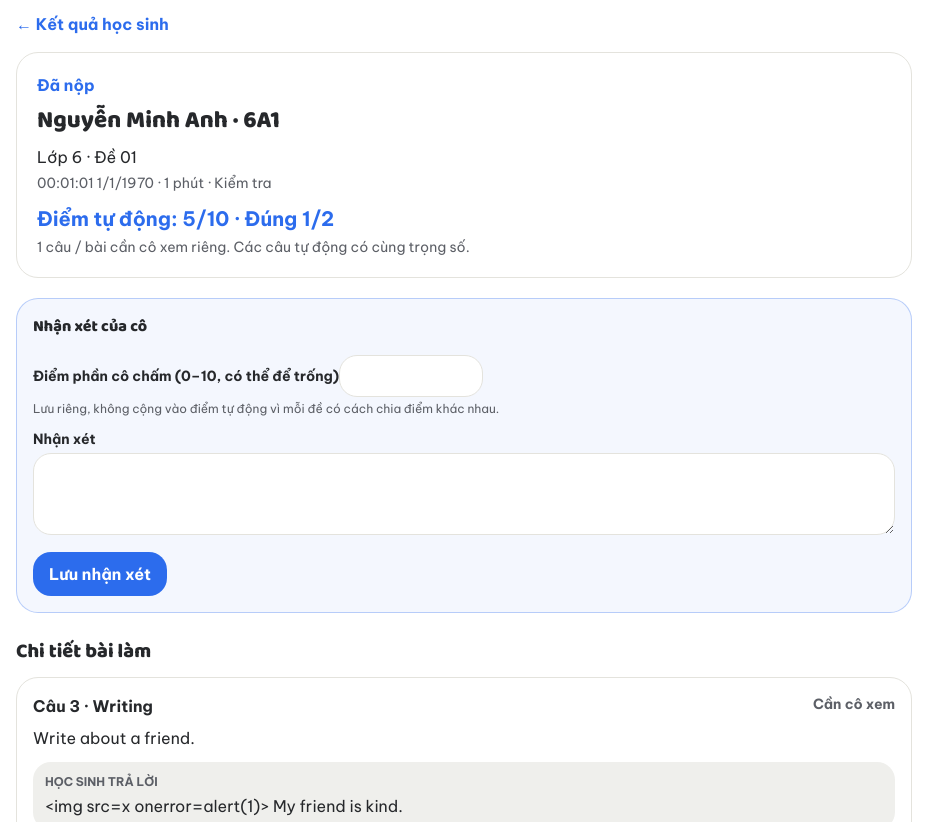
Test case: teacher results › shows the complete writing response as text and saves the teacher review separately
The width and height of the screenshot is (929, 822).
Expected: the text "<img src=x onerror=alert(1)> My friend is kind." is shown, x1=45 y1=796 x2=403 y2=816
Type "8.5" into the number field at (411, 376), box x1=339 y1=355 x2=483 y2=397
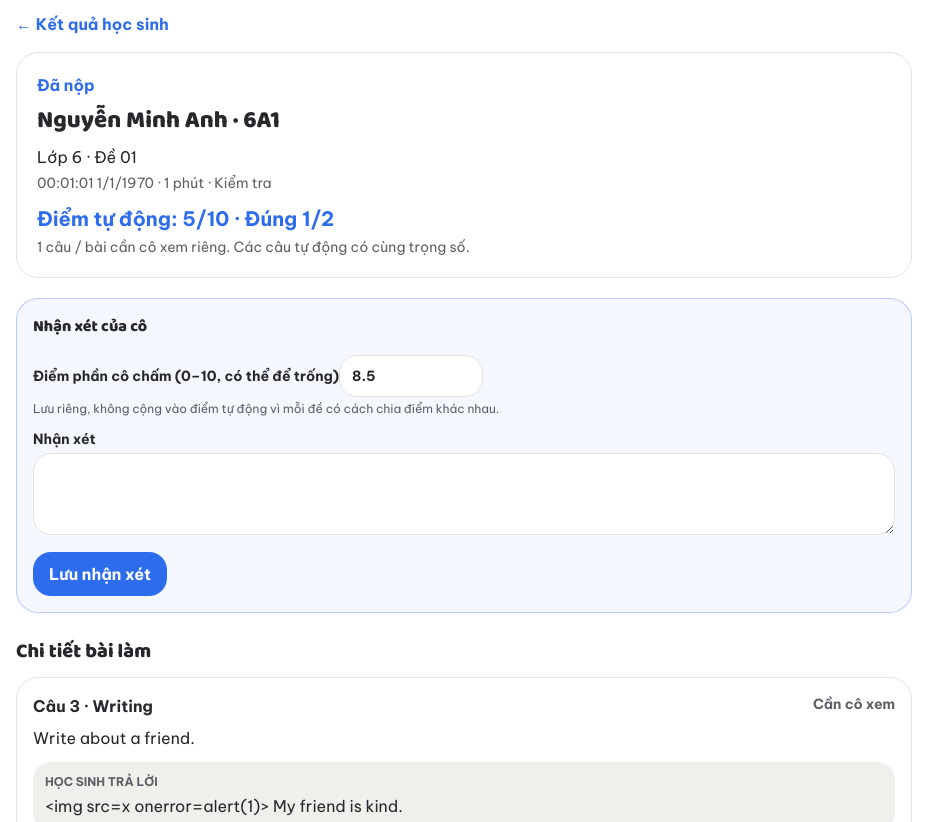
Type "Em viết rõ ý." into the text box labelled "Nhận xét" at (464, 494), box x1=33 y1=453 x2=895 y2=535
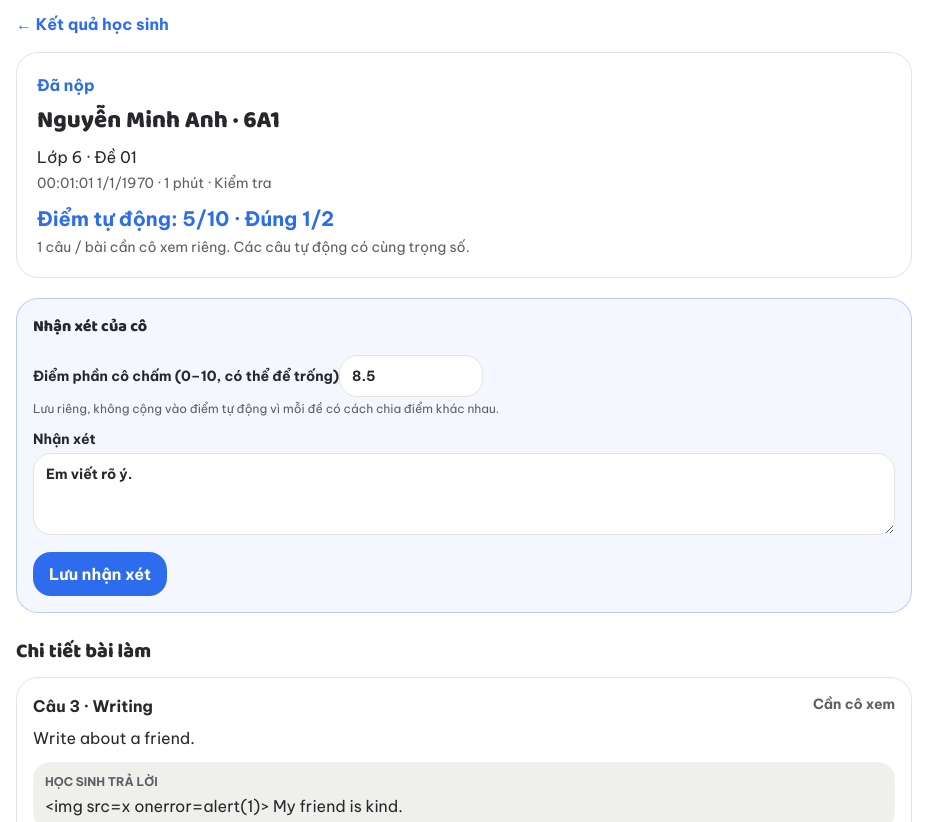
Click the button "Lưu nhận xét" at (100, 574), box x1=33 y1=552 x2=167 y2=596
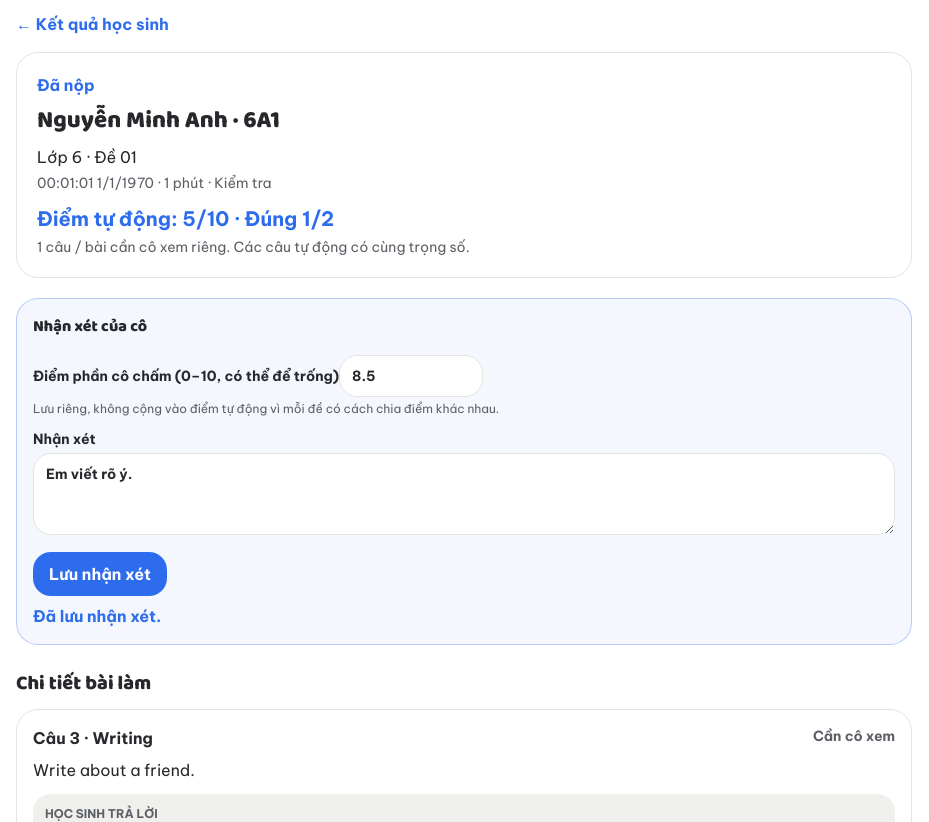
Expected: the text "Điểm tự động: 5/10 · Đúng 1/2" is shown, x1=37 y1=206 x2=334 y2=231
Expected: the message shows "Đã lưu nhận xét", x1=33 y1=606 x2=161 y2=626
